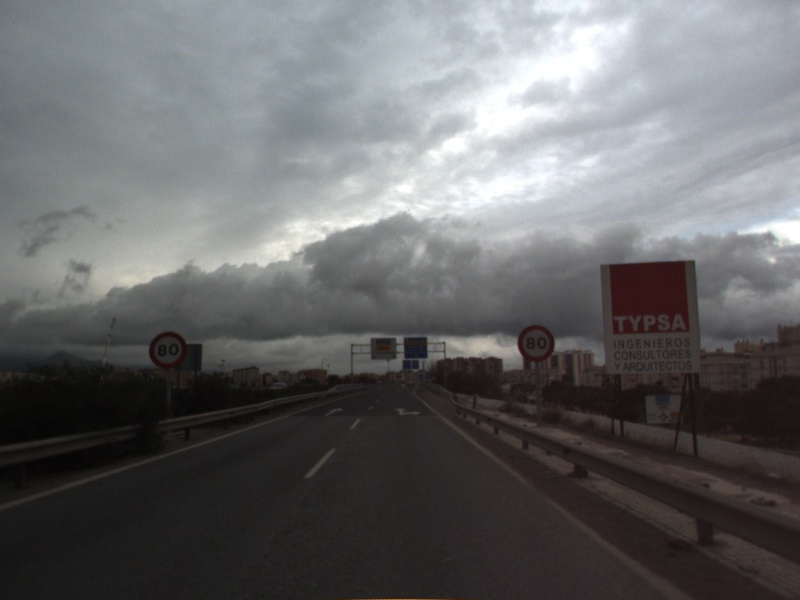STRAIGHT: (322, 405, 346, 418)
STRAIGHT_RIGHT: (392, 405, 423, 418)
